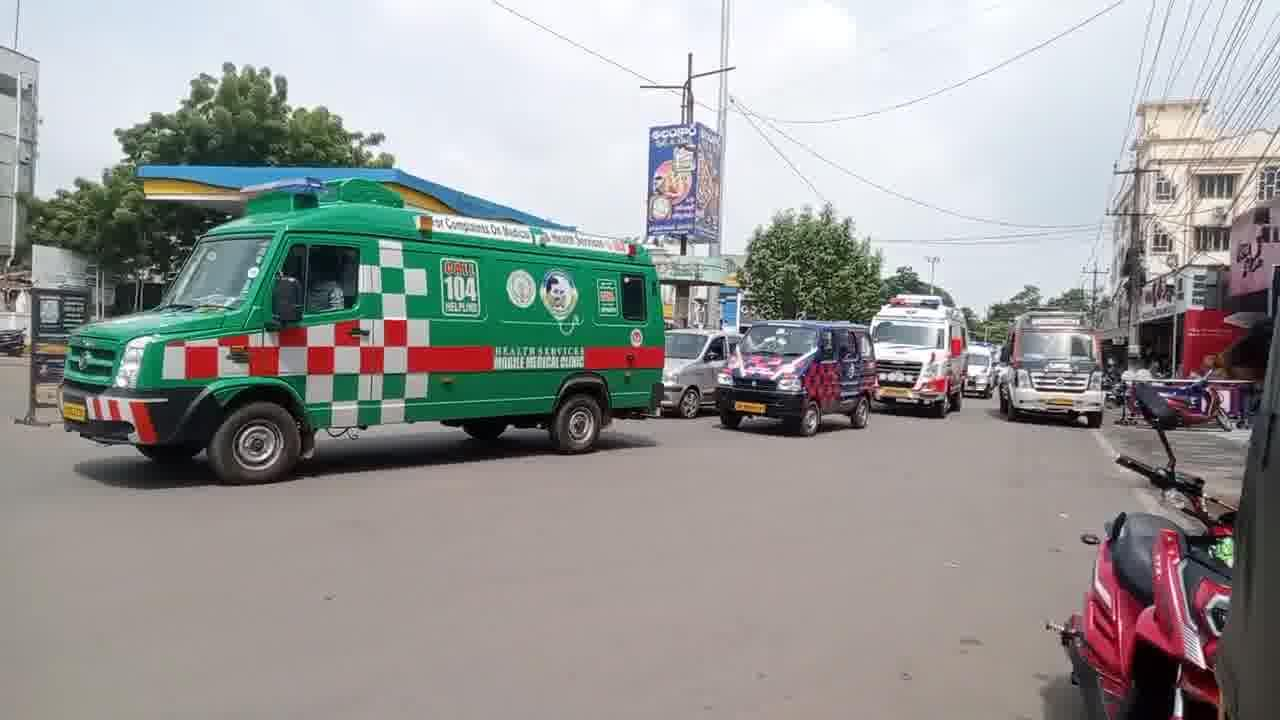AMBULANCE: (53, 166, 707, 538), (726, 326, 870, 445), (877, 281, 981, 413), (1016, 296, 1107, 441)
